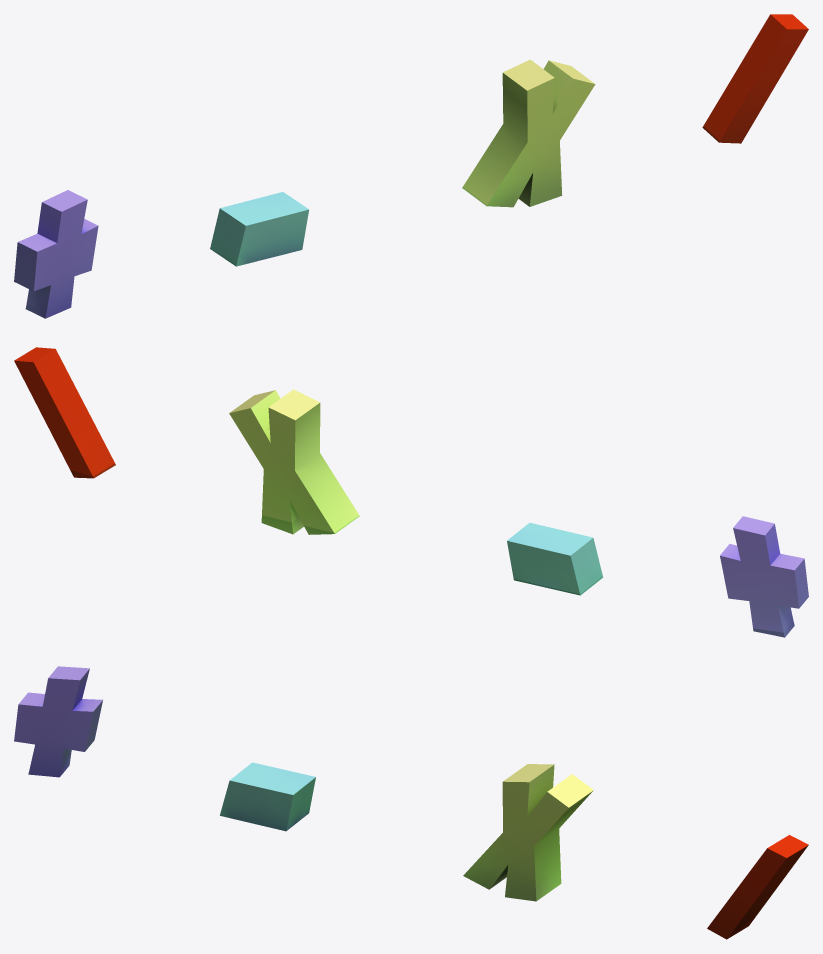
Rendered from OpOps.FBX.
3 renders of one model, top to bottom at view 1: azimuth 30°, elevation 25°; view 2: azimuth 150°, elevation 25°; view 3: azimuth 330°, elevation 25°, orthographic.
Visible parts, largest first — view 1: Numbers; view 2: Numbers; view 3: Numbers.
Part boxes in pixels (<box>): Numbers: <box>14,14,808,318</box>; Numbers: <box>14,347,808,637</box>; Numbers: <box>14,666,808,939</box>.
Bounding box in the file's own units: 3285 × 213 × 491.
Materials: 1 (1 with a texture image).
